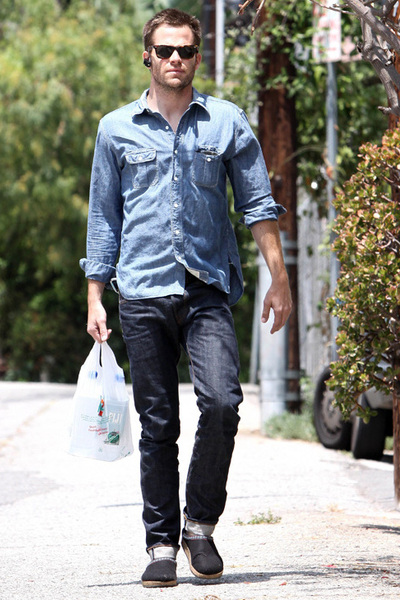jeans: (107, 276, 250, 540)
sunglasses: (149, 43, 198, 64)
